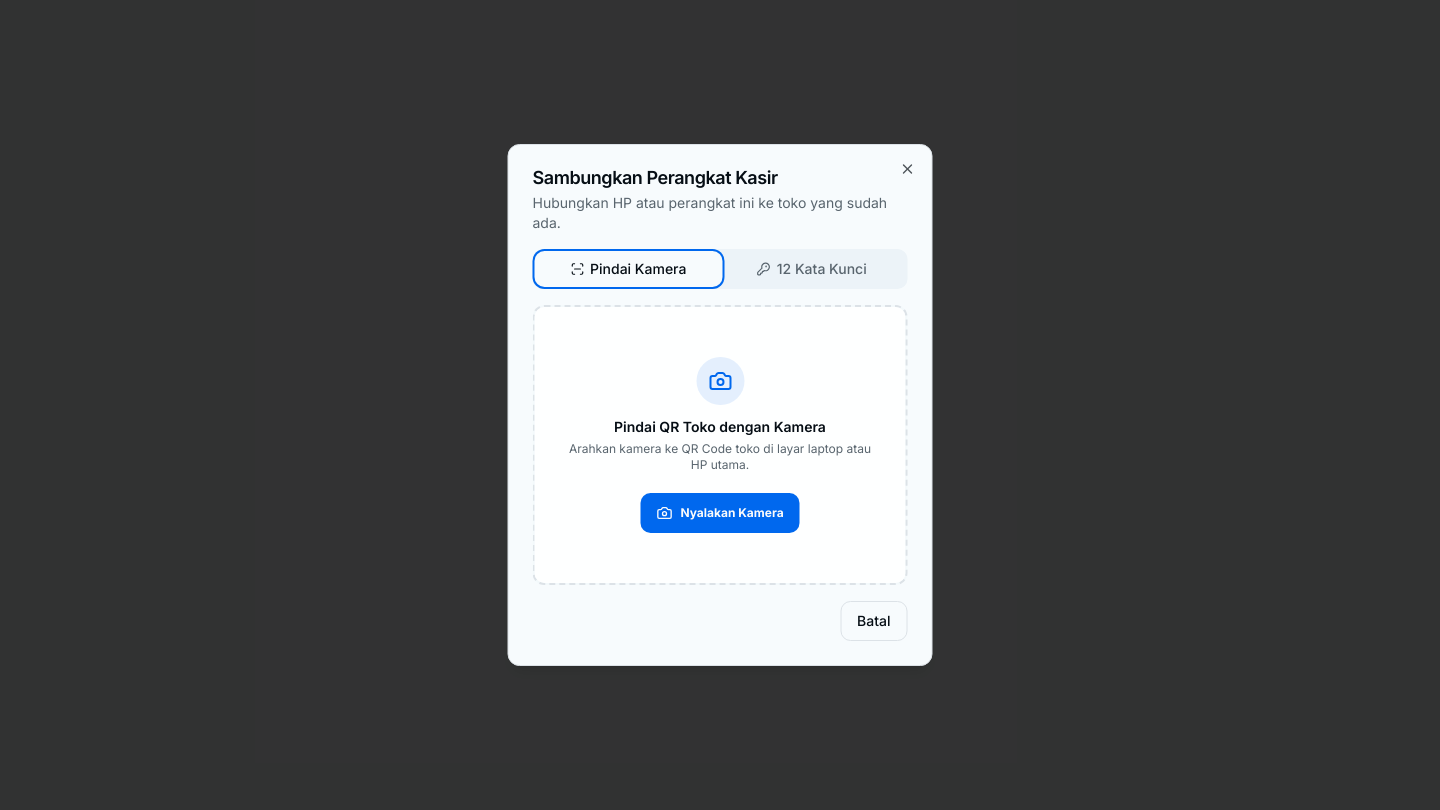
Test case: QrScannerModal › validates 12 words passphrase on manual pairing
// Switch to manual tab
Press Enter in the tab "12 Kata Kunci", box [720,253,904,285]
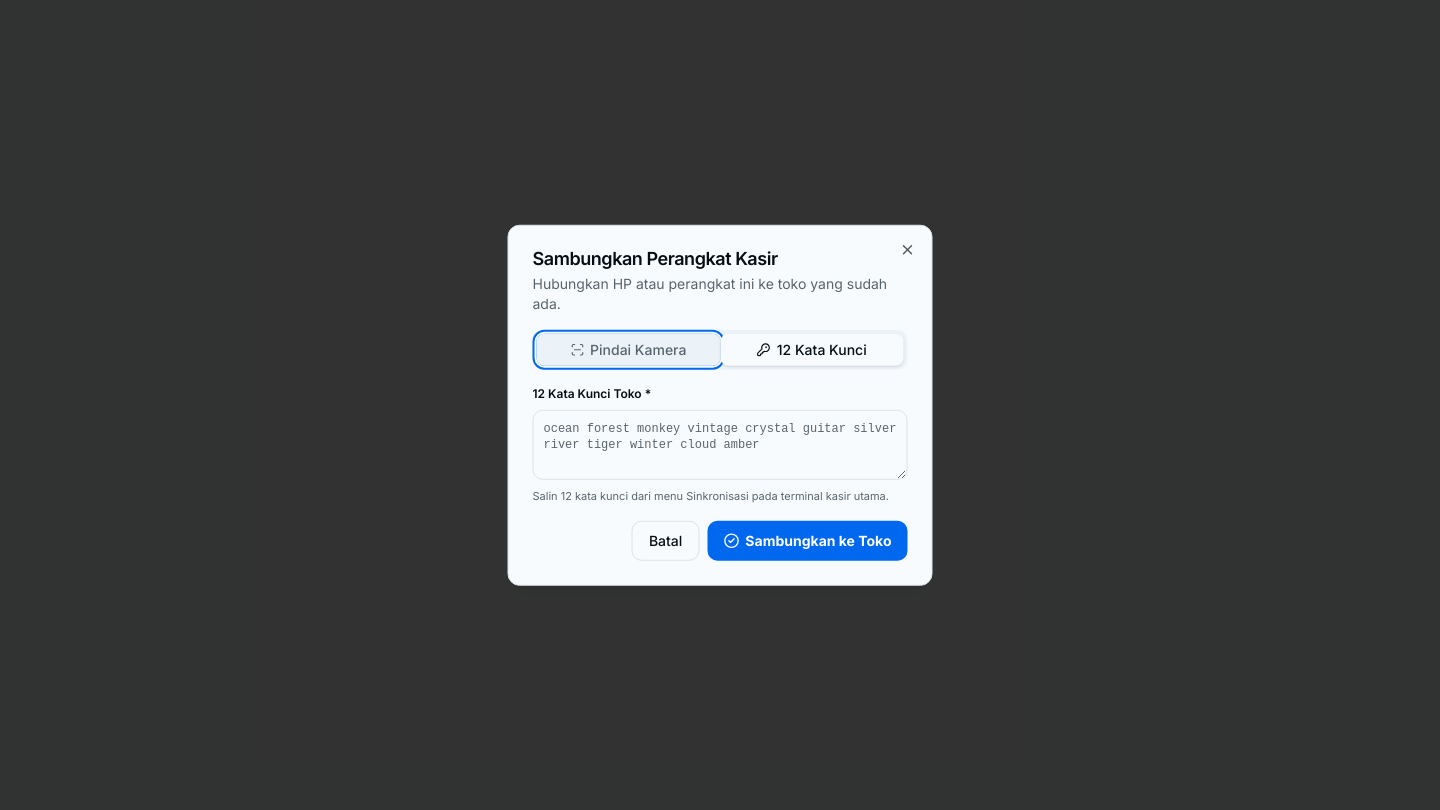
Replace the text in the text box with placeholder "ocean forest monkey" with "only three words": (720, 445) [532,410,908,480]
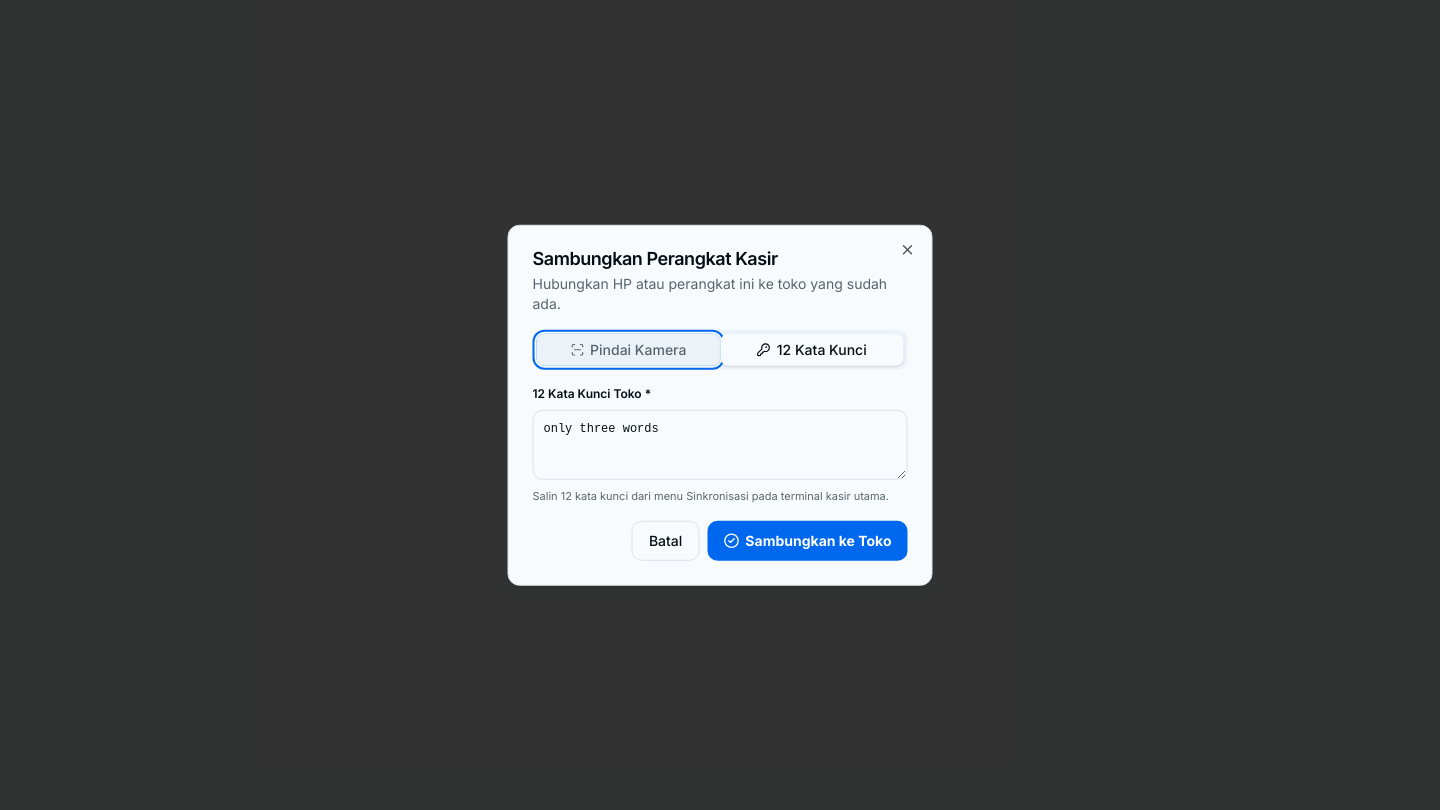
Click the button "Sambungkan ke Toko": (807, 540) [707,520,908,560]
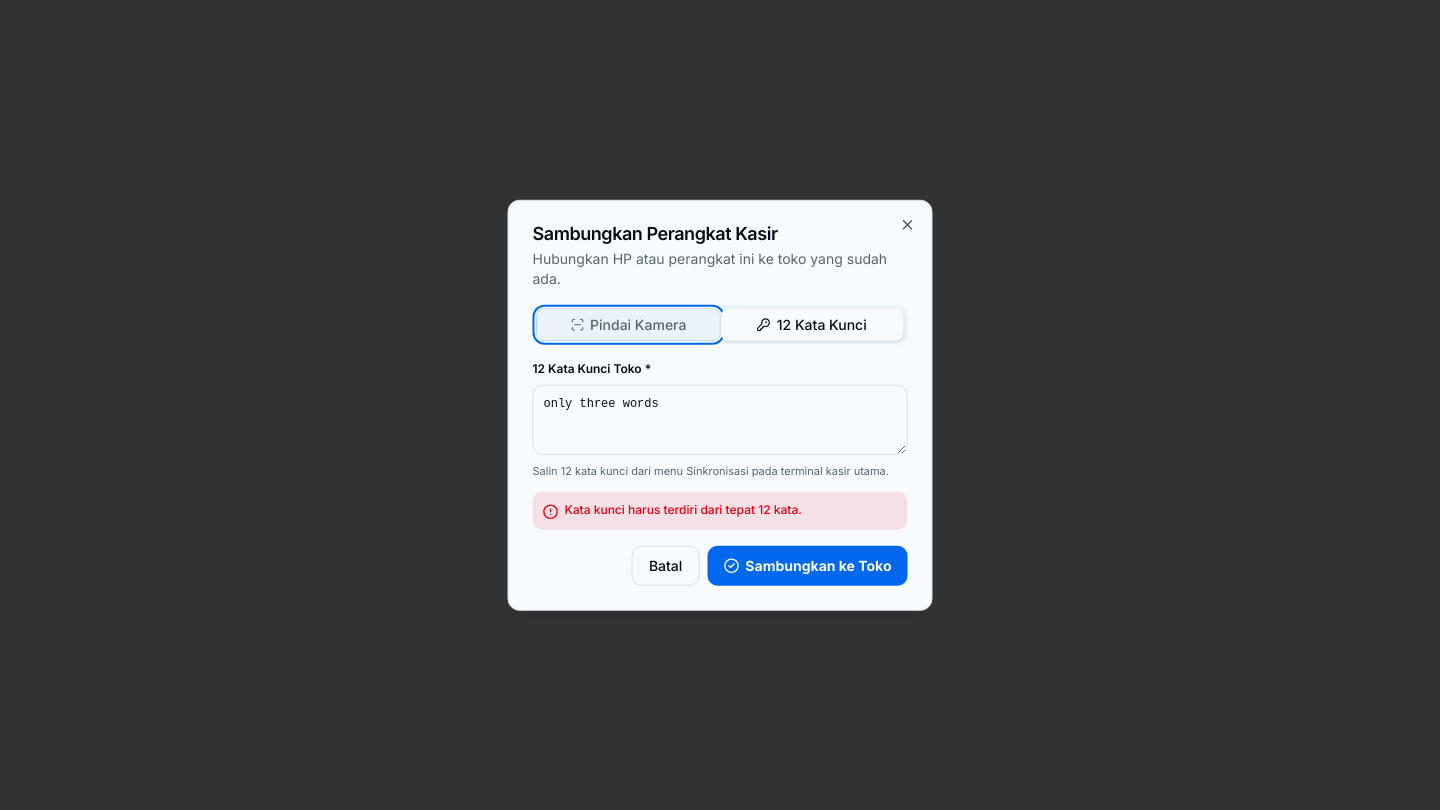
Expected: the text "Kata kunci harus terdiri dari tepat 12 kata." is shown, [564,501,802,517]
